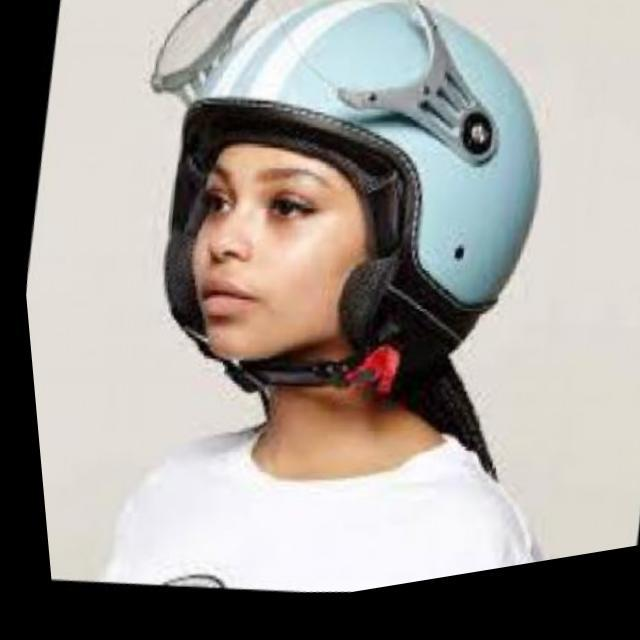Helmet: (145, 0, 556, 394)
